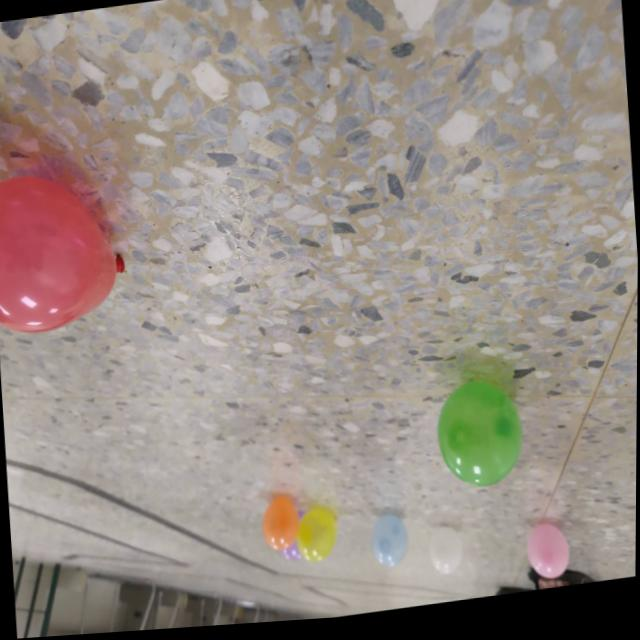other: (435, 381, 526, 501), (295, 505, 342, 570), (527, 528, 571, 590), (262, 496, 300, 558), (371, 516, 410, 575), (428, 530, 464, 582)
red: (0, 160, 132, 340)
